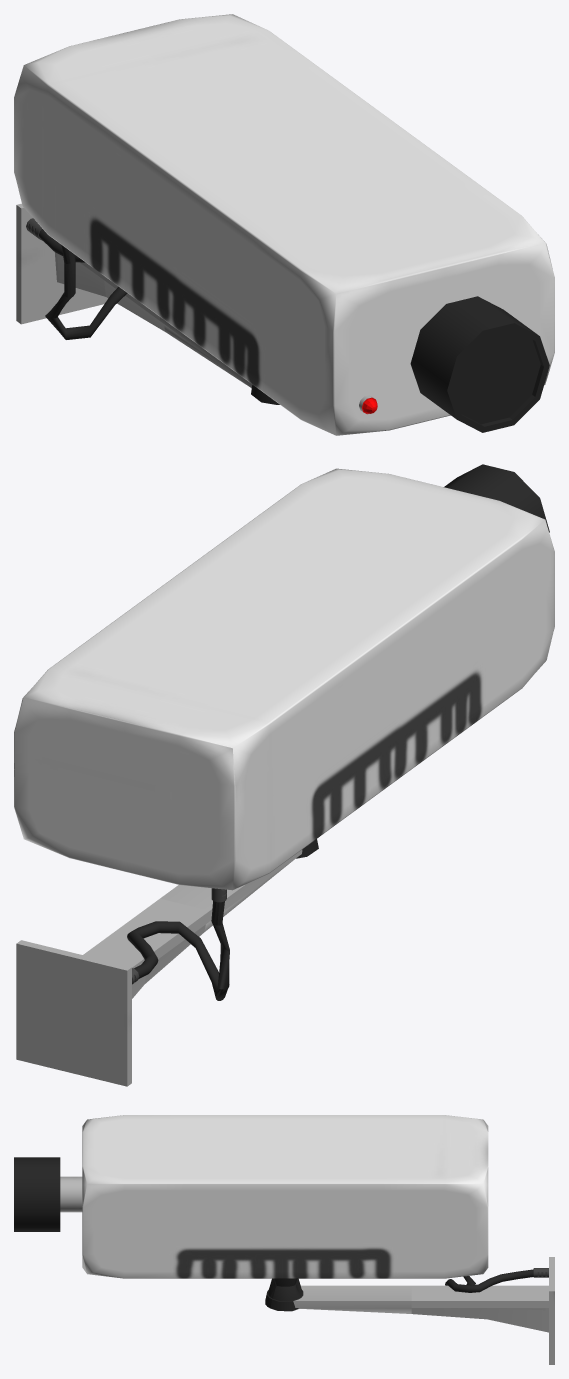
The model's file is SecurityCameraFinal.FBX.
3 views of the same model, one above another, from view 1: azimuth 30°, elevation 25°; view 2: azimuth 150°, elevation 25°; view 3: azimuth 270°, elevation 25° (orthographic). The views are drawn at different scales.
Visible parts, largest first — view 1: Camera_Body, Camera Eye, Mount_Plate, Camera_Arm, Line001; view 2: Camera_Body, Mount_Plate, Camera_Arm, Line001, Camera Eye; view 3: Camera_Body, Camera_Arm, Camera Eye, Camera-HingeMale, Cylinder001, Line001, Mount_Plate.
Boxes of the visible parts, box(x1,y1,x2,y2) form: Camera_Body: box(14, 14, 554, 435); Camera Eye: box(410, 296, 549, 432); Mount_Plate: box(16, 203, 107, 324); Camera_Arm: box(54, 252, 252, 387); Line001: box(39, 229, 127, 339); Camera_Body: box(14, 468, 554, 890); Mount_Plate: box(16, 940, 131, 1086); Camera_Arm: box(83, 850, 302, 998); Line001: box(127, 901, 229, 1000); Camera Eye: box(444, 464, 549, 532); Camera_Body: box(82, 1115, 488, 1278); Camera_Arm: box(293, 1285, 548, 1332); Camera Eye: box(14, 1157, 60, 1231); Camera-HingeMale: box(265, 1278, 303, 1311); Cylinder001: box(60, 1176, 82, 1212); Line001: box(445, 1269, 533, 1292); Mount_Plate: box(549, 1257, 554, 1364).
Bounding box in the file's own units: 40 × 54.02 × 133.
